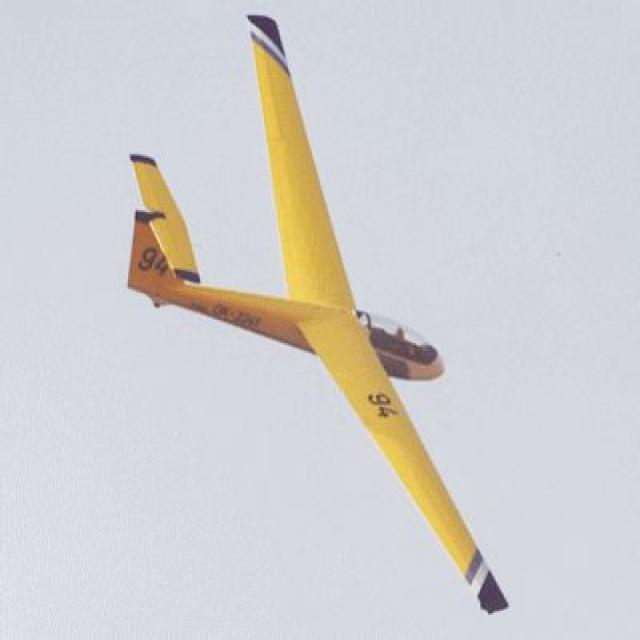iha: (124, 12, 512, 618)
